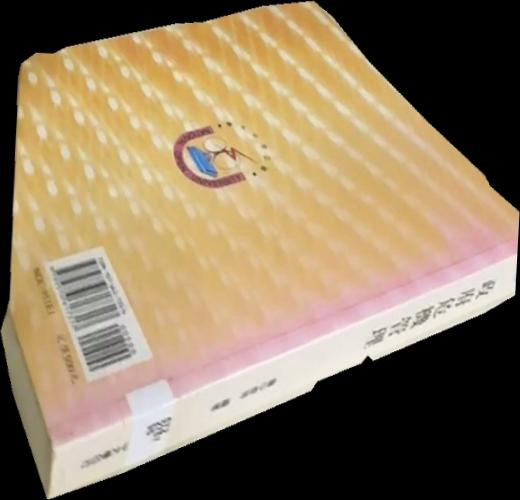flat: (1, 1, 520, 500)
